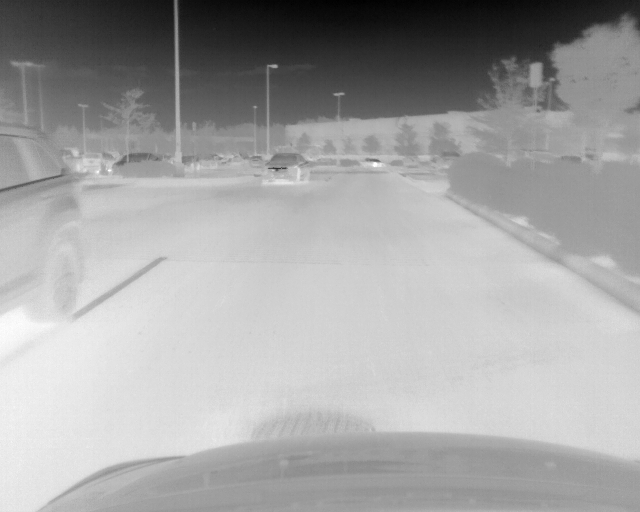car: (1, 120, 93, 323), (262, 152, 313, 185), (111, 152, 170, 173), (84, 150, 109, 169), (435, 152, 459, 171), (404, 154, 417, 168), (365, 156, 380, 166)
